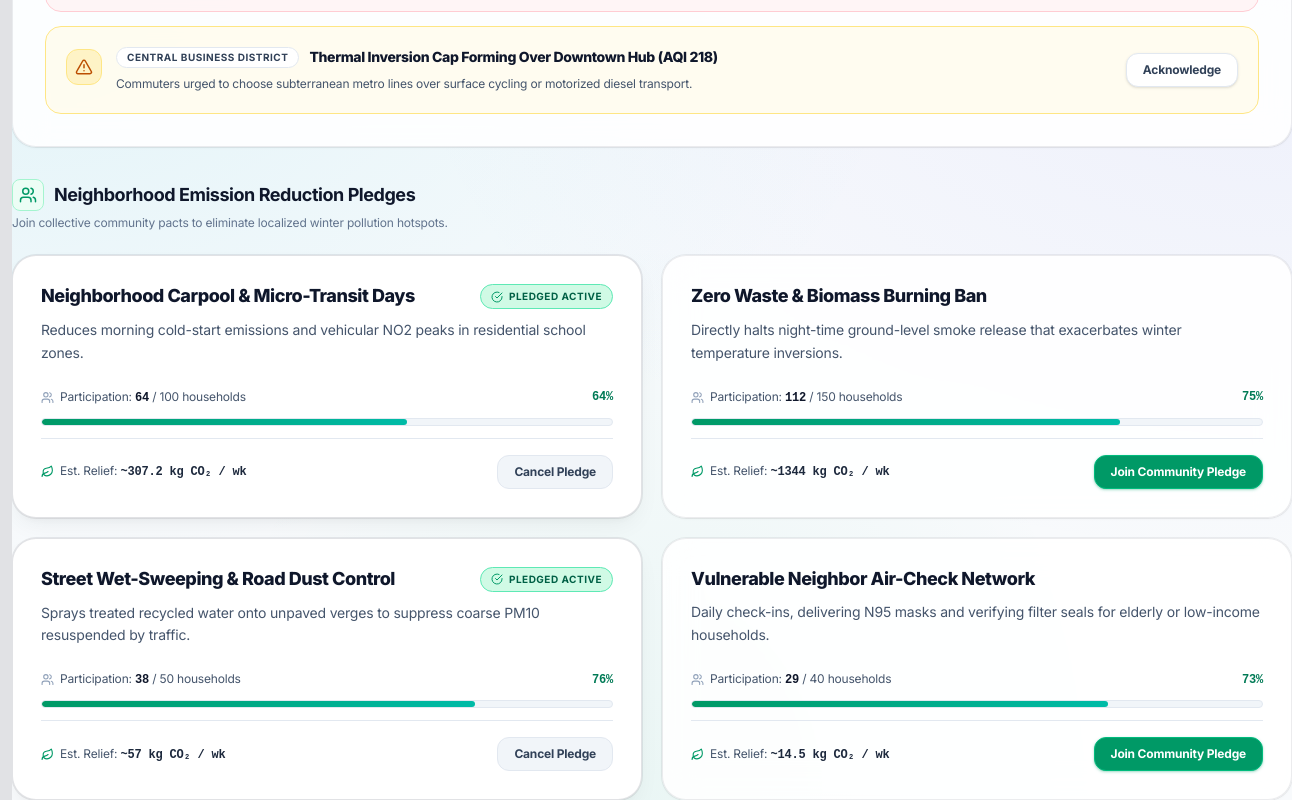
Test: Community Pledge Action › toggles user pledge participation on button click
(page scrolled)
Click the button "Cancel Pledge" in the row of "307.2" at (555, 472), box [497,454,613,488]
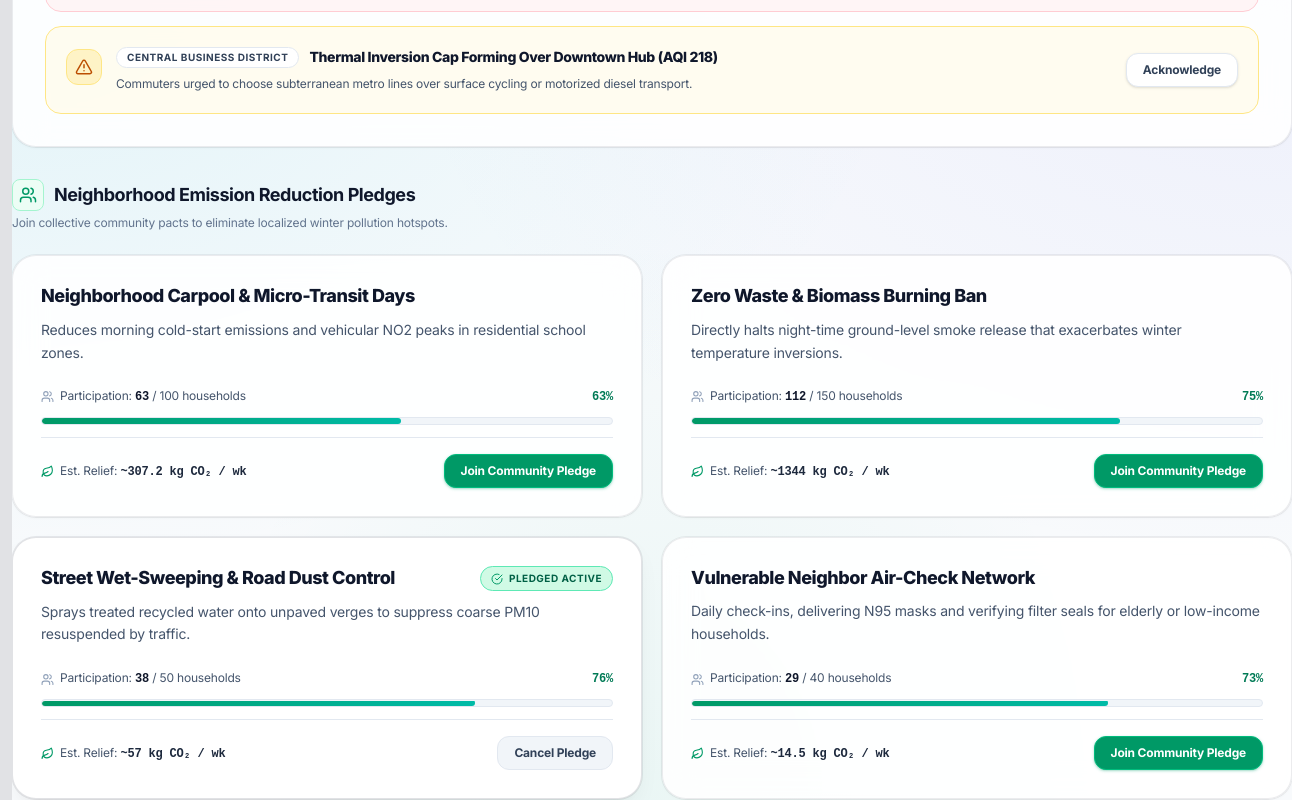
Now the text "Cancel Pledge" is gone
